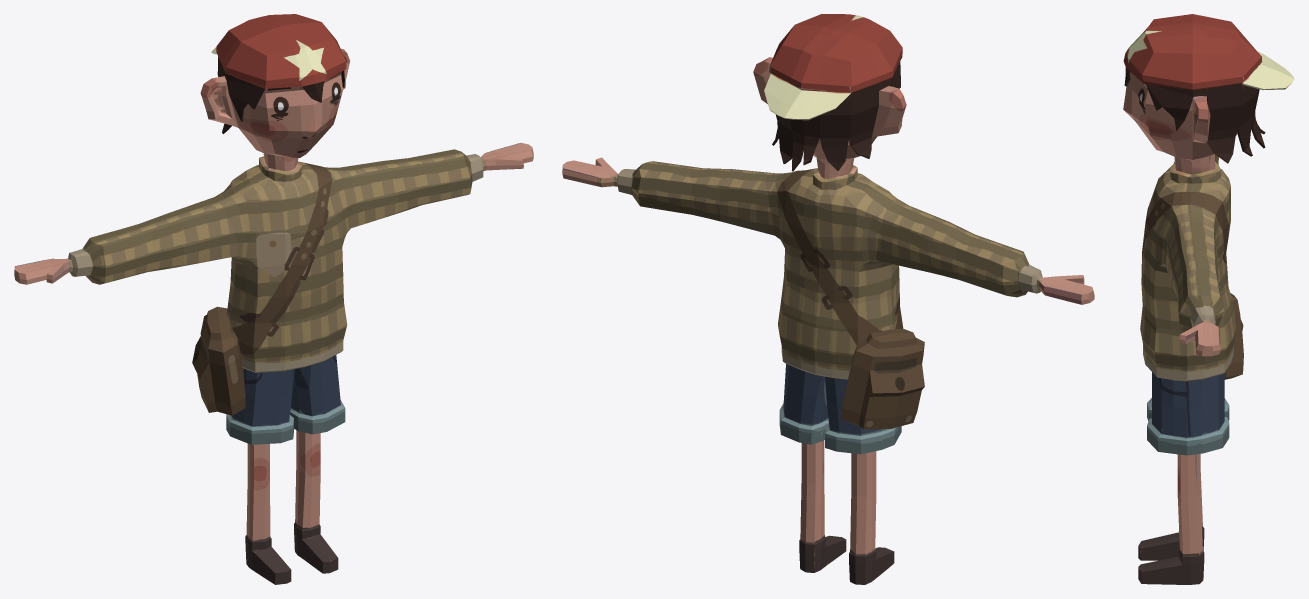
File: Player(1).fbx
The picture shows the model from 3 angles, left to right: view 1: azimuth 30°, elevation 25°; view 2: azimuth 150°, elevation 25°; view 3: azimuth 270°, elevation 25°; orthographic projection. The views are drawn at different scales.
Visible parts, largest first — view 1: body, hat, bag, hair; view 2: body, hat, bag, hair; view 3: body, hat, hair, bag.
Boxes of the visible parts, left/top/right/bottom form: body: left=14, top=49, right=533, bottom=584; hat: left=211, top=14, right=346, bottom=88; bag: left=192, top=306, right=245, bottom=415; hair: left=217, top=57, right=344, bottom=133; body: left=562, top=57, right=1094, bottom=584; hat: left=764, top=14, right=902, bottom=120; bag: left=841, top=329, right=924, bottom=429; hair: left=772, top=61, right=900, bottom=171; body: left=1123, top=72, right=1237, bottom=584; hat: left=1123, top=14, right=1294, bottom=90; hair: left=1124, top=67, right=1265, bottom=163; bag: left=1224, top=293, right=1243, bottom=379.
Bounding box in the file's own units: 889 × 881 × 253.
Materials: 4 (4 with a texture image).
